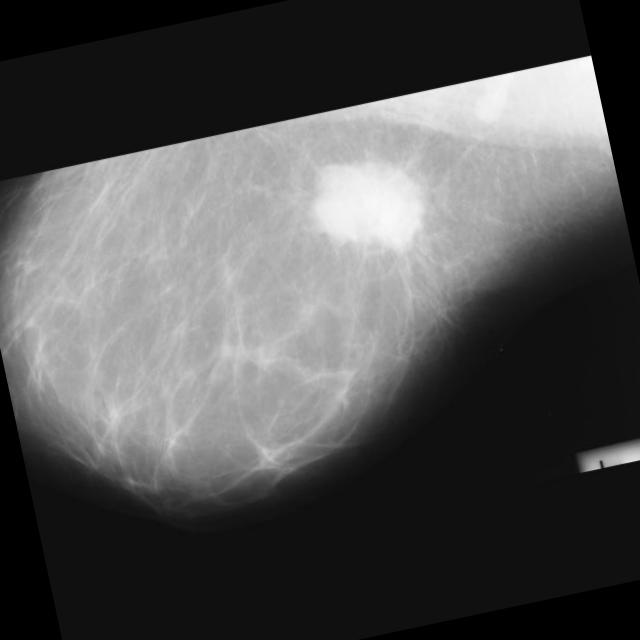SPIC: (284, 124, 452, 292)
